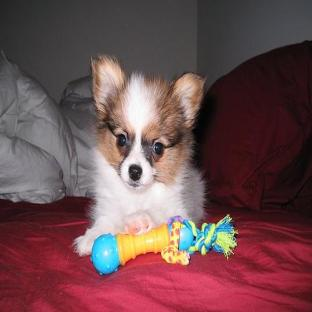Animal: (74, 56, 205, 255)
